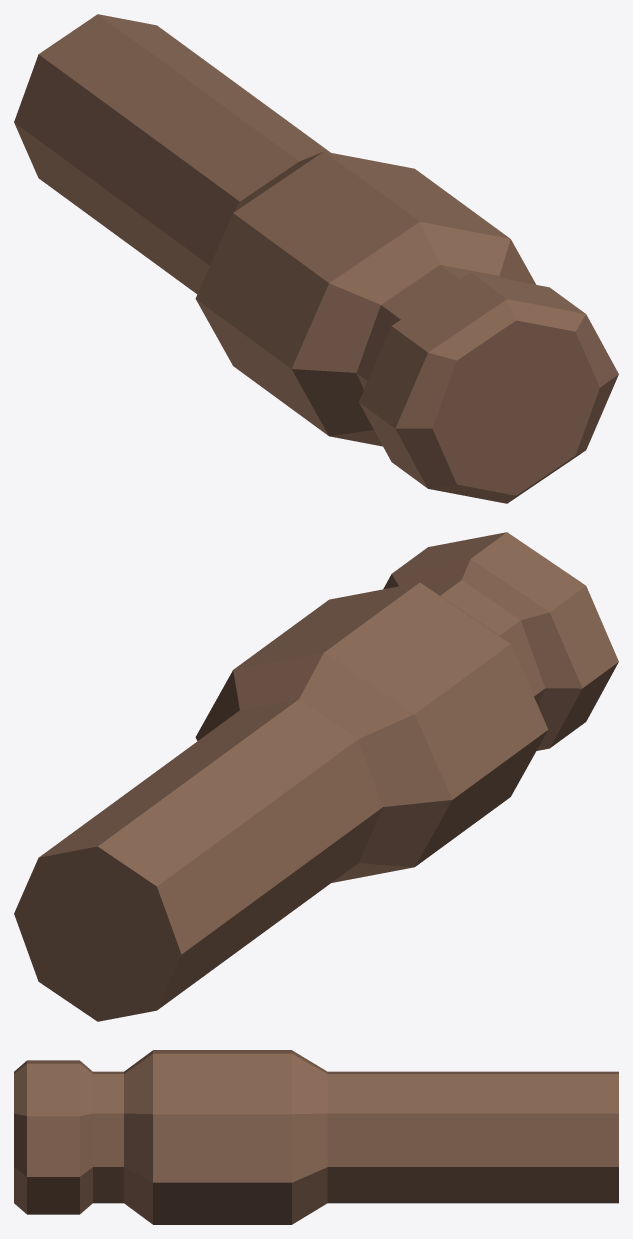
File: O_Interactive_KeyBroken_Part2.fbx
3 views of the same model, one above another, from view 1: azimuth 30°, elevation 25°; view 2: azimuth 150°, elevation 25°; view 3: azimuth 270°, elevation 25° (orthographic). The views are drawn at different scales.
Parts seen in each view (by area): view 1: pCube3; view 2: pCube3; view 3: pCube3.
Part boxes in pixels (x1=…): pCube3: x1=14, y1=14, x2=618, y2=503; pCube3: x1=14, y1=532, x2=618, y2=1021; pCube3: x1=14, y1=1050, x2=618, y2=1224.
Size of the model in its own units: 0.0372 by 0.0321 by 0.1051.
